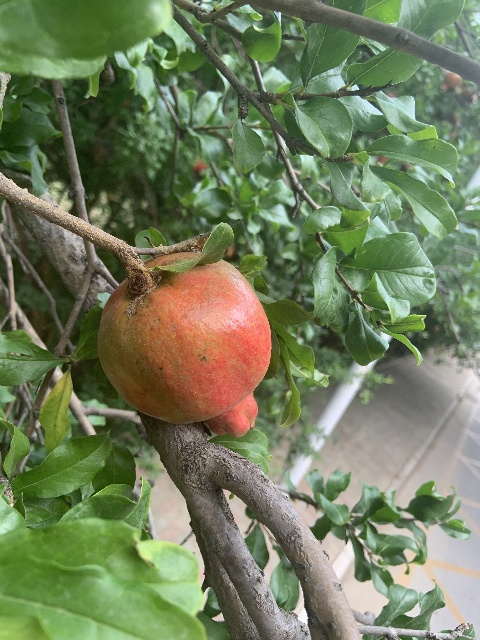mid-growth: (439, 72, 469, 101)
ripe: (98, 252, 272, 437)
